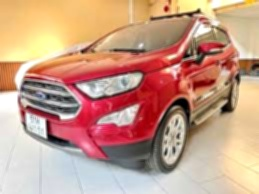Bien-so: (25, 112, 48, 140)
